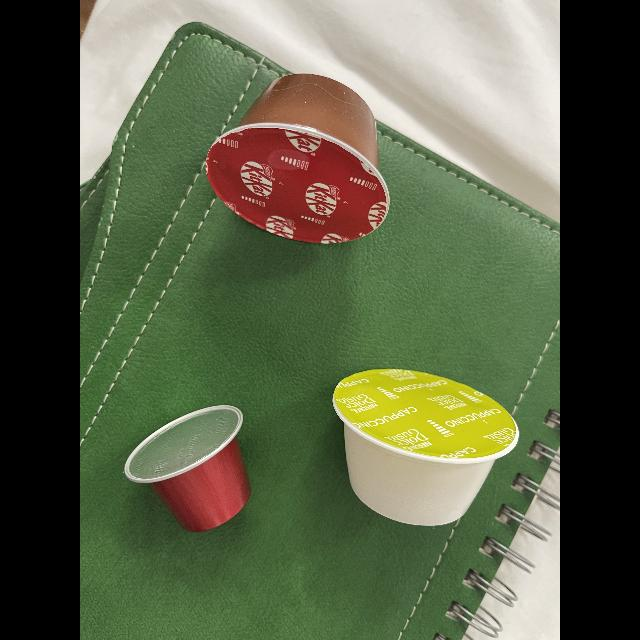intact_capsule: (202, 63, 400, 253), (324, 359, 526, 539), (120, 390, 268, 542)
